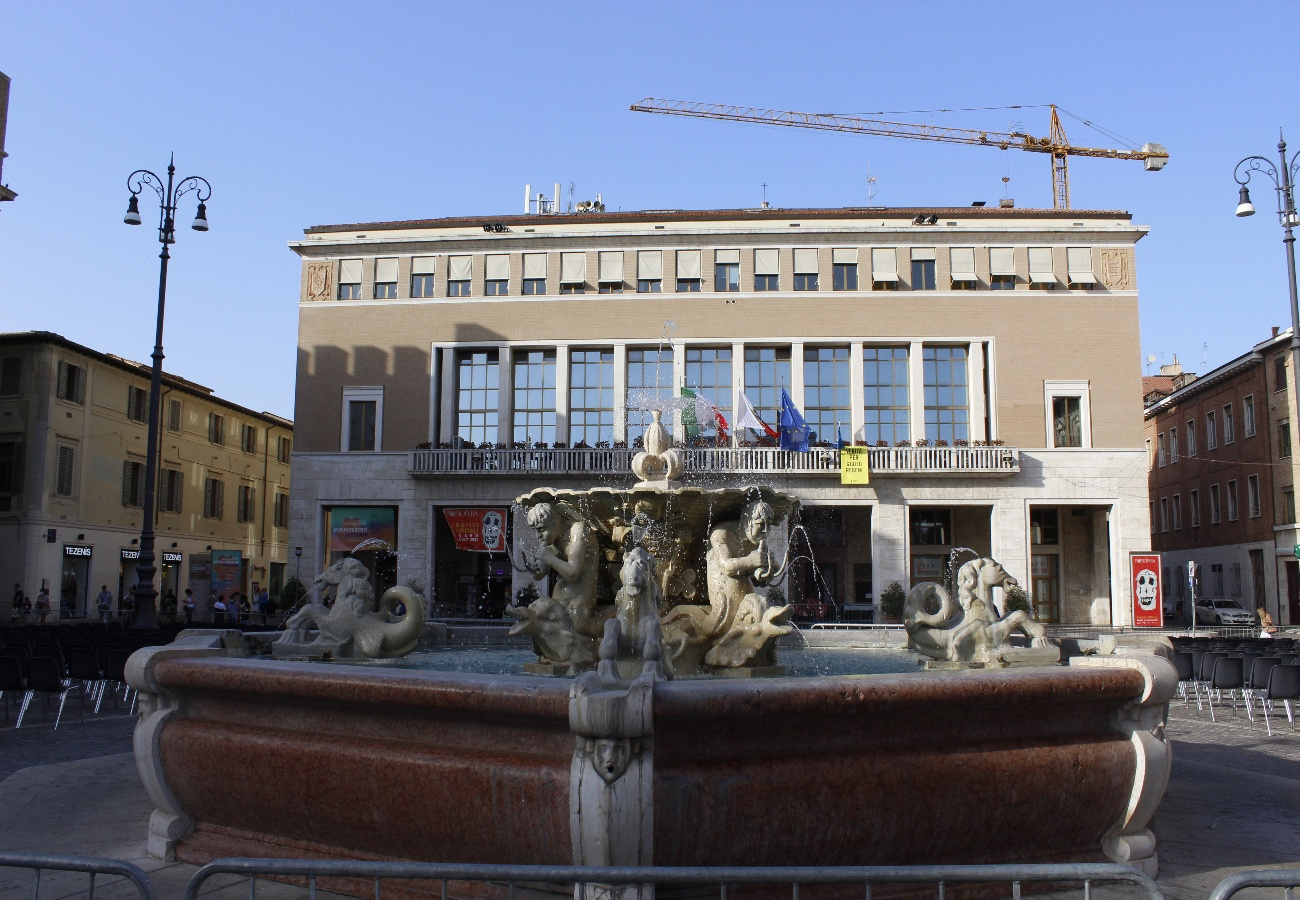Fontana Piazza del Popolo: (518, 492, 809, 673)
Palazzo Comunale: (299, 229, 1134, 626)
